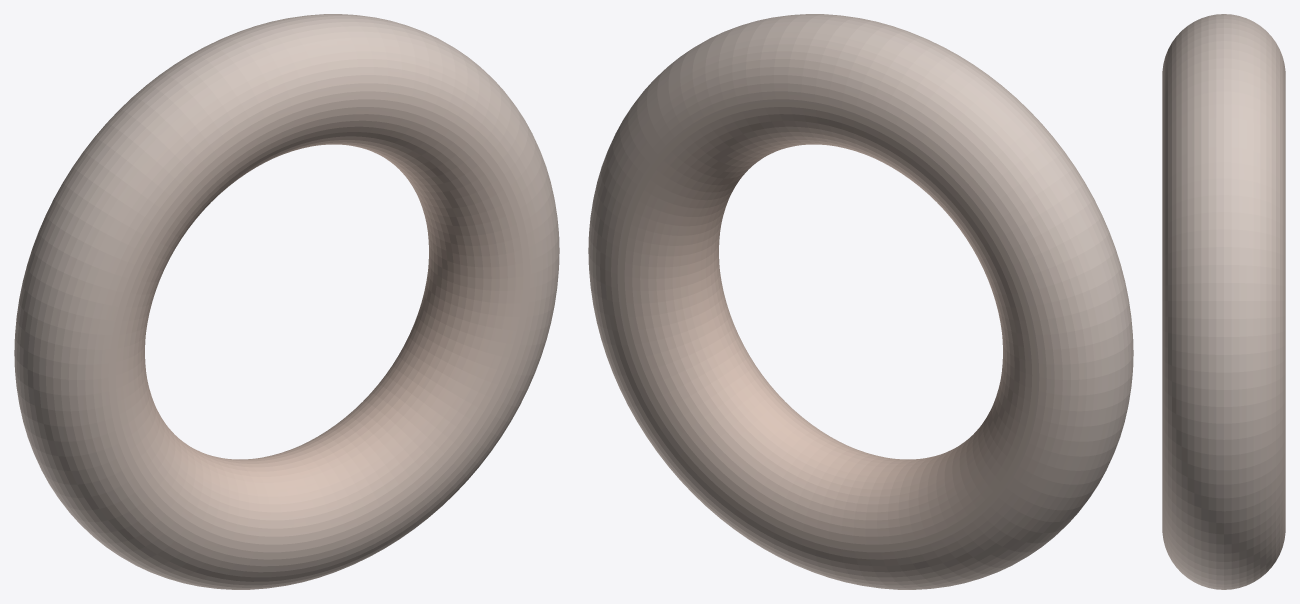
3 renders of one model, left to right at view 1: azimuth 30°, elevation 25°; view 2: azimuth 150°, elevation 25°; view 3: azimuth 270°, elevation 25°, orthographic. The views are drawn at different scales.
Visible parts, largest first — view 1: world; view 2: world; view 3: world.
Part boxes in pixels (x1,y1,x2,y2): world: [14, 14, 559, 589]; world: [588, 14, 1133, 589]; world: [1162, 14, 1285, 589].
Bounding box in the file's own units: 28 × 28 × 5.99.
